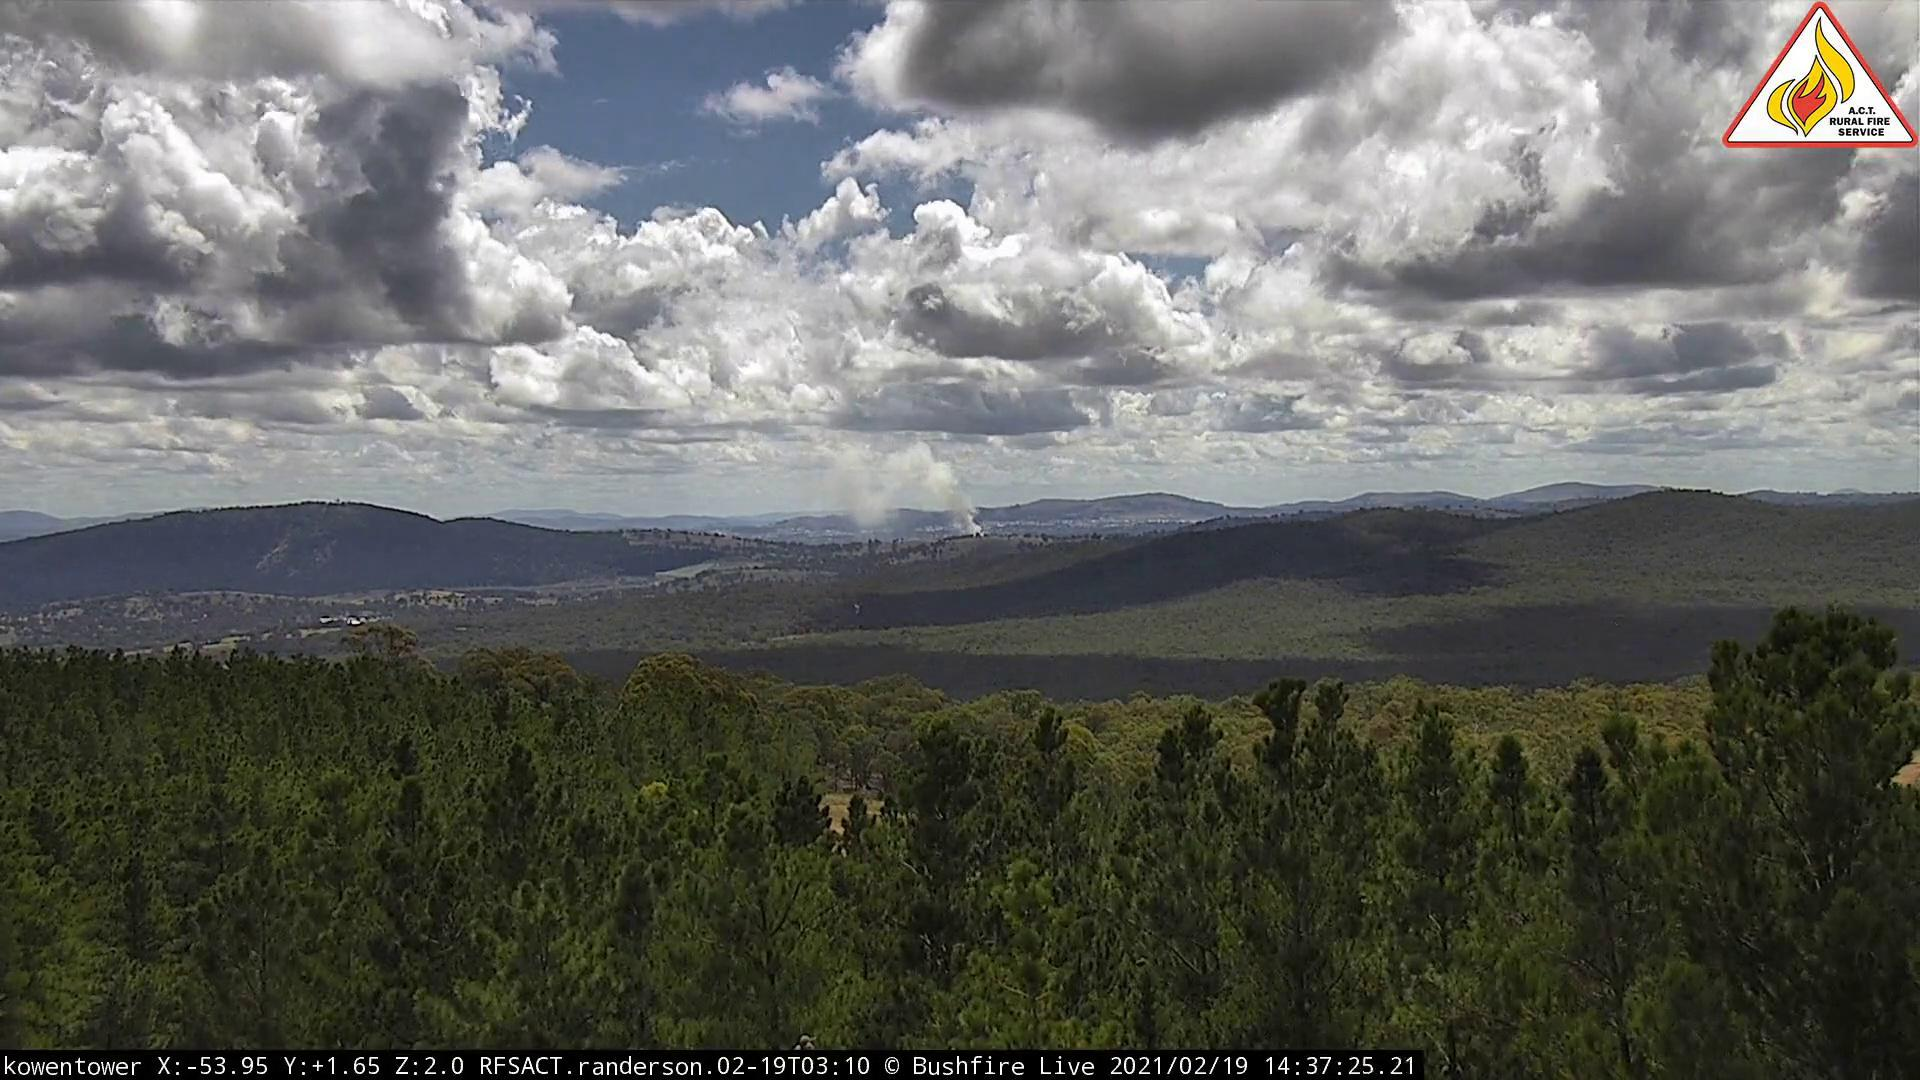instance_salient_object: (794, 431, 990, 549)
